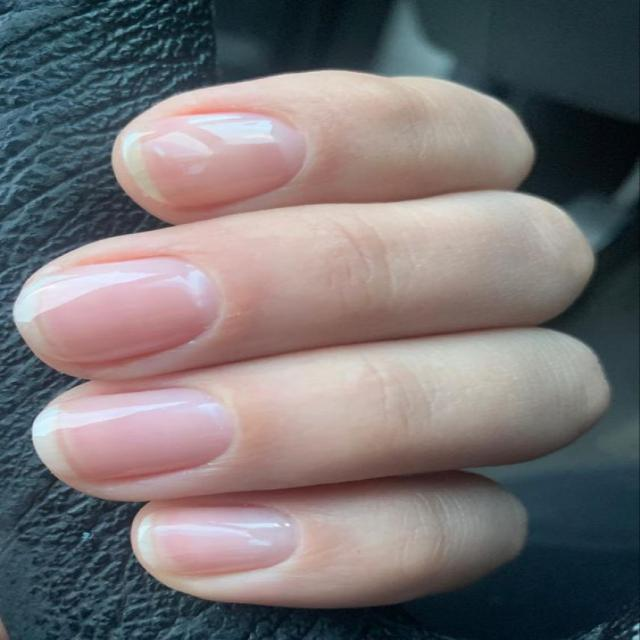Fingernail: (14, 257, 219, 362), (33, 388, 232, 479), (122, 115, 305, 208), (141, 505, 297, 575)
